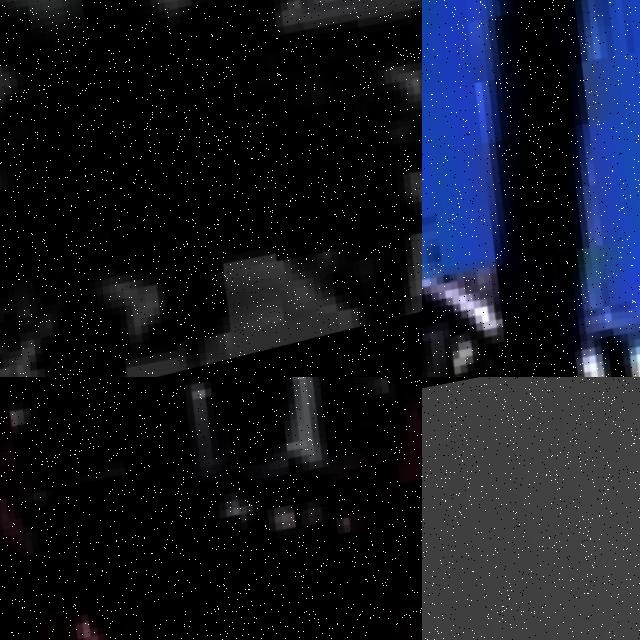drone: (0, 0, 422, 377), (0, 377, 422, 640), (422, 0, 640, 377)
